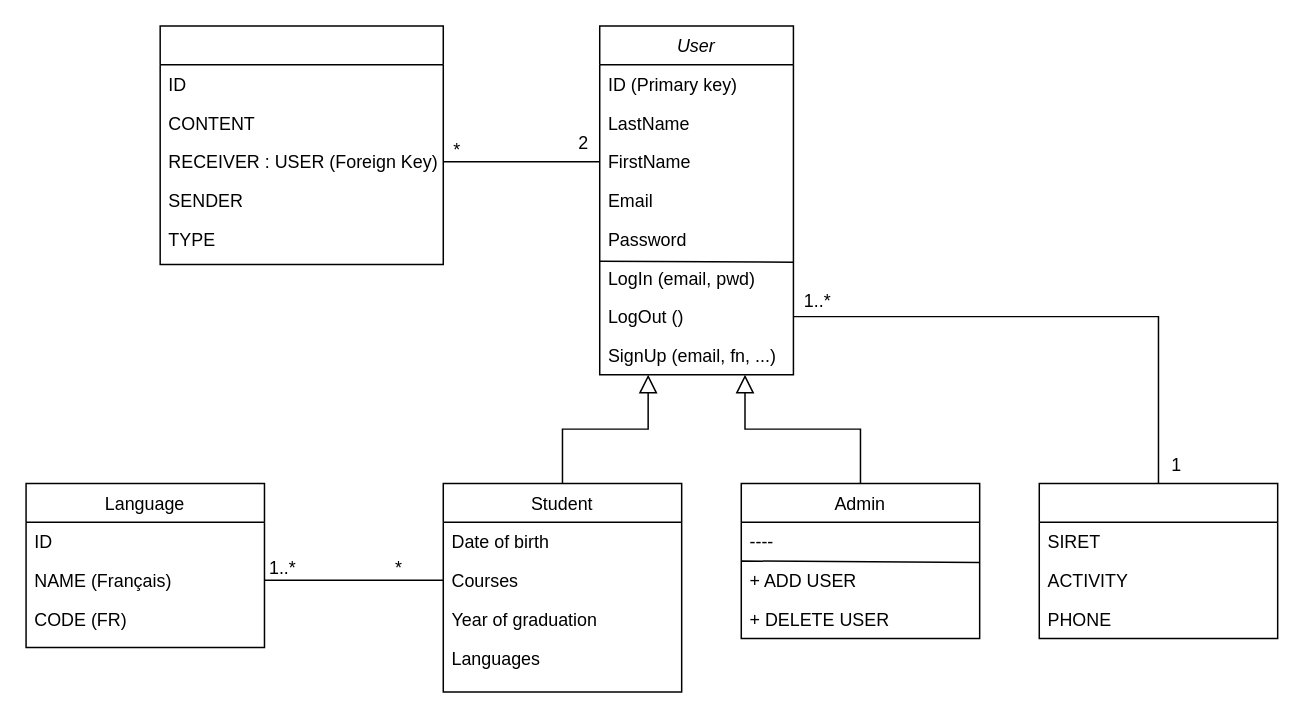
Some shapes in this 1304 by 718 pixel diagram are drawn without their labels. Each missing label, with the box of its shape:
Company: (1038, 482, 1278, 638)
Message: (159, 25, 443, 264)
